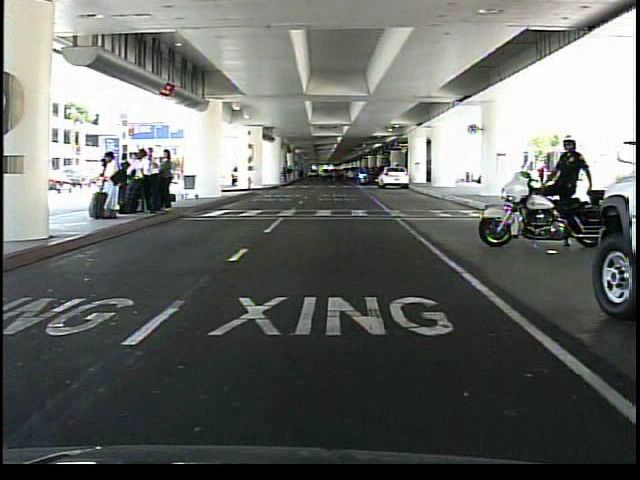person: (542, 129, 590, 255)
